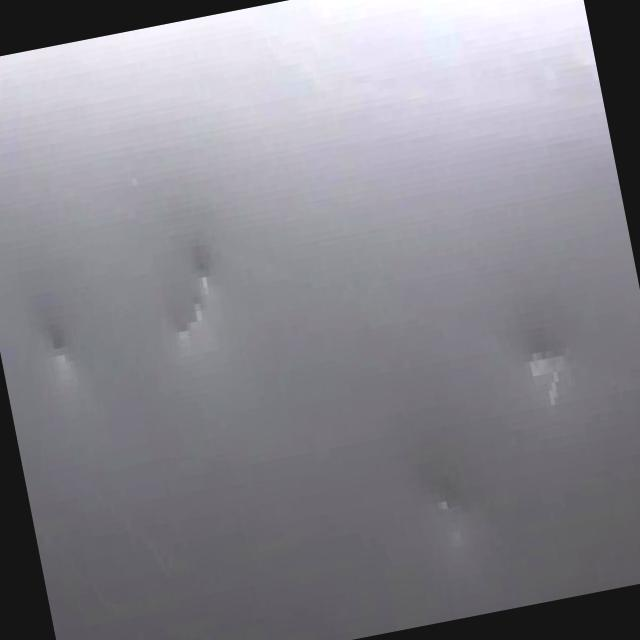dent: (152, 214, 248, 380), (494, 310, 586, 430), (42, 310, 112, 430), (414, 456, 467, 574)
